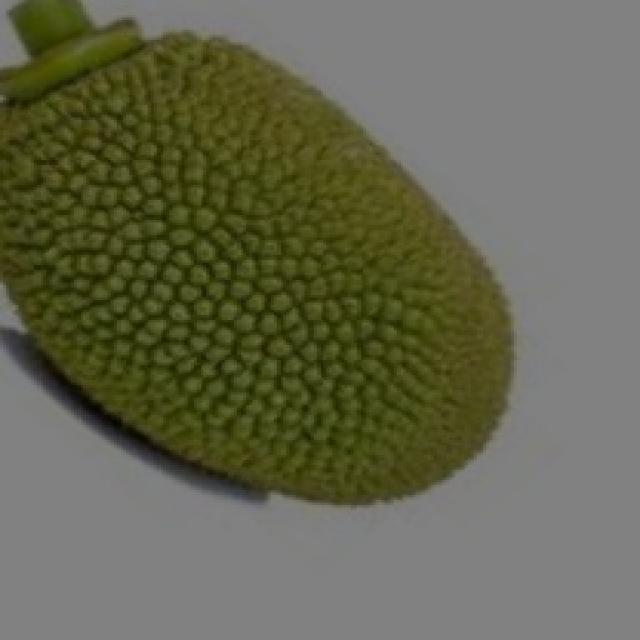Fruit: (0, 0, 409, 470)
